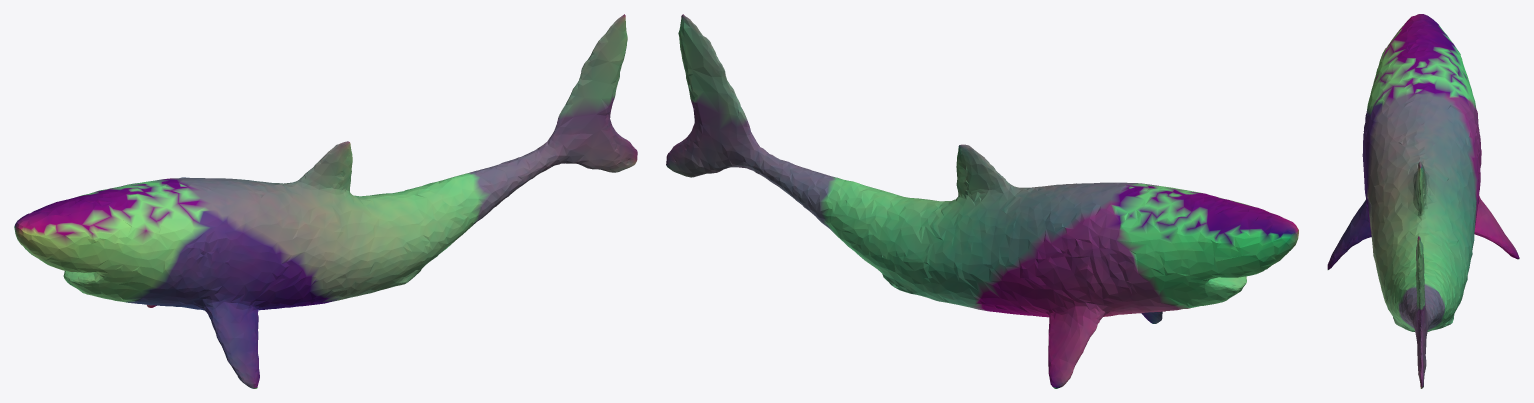
File: shark-20.off.obj
3 views of the same model, side by side, from view 1: azimuth 30°, elevation 25°; view 2: azimuth 150°, elevation 25°; view 3: azimuth 270°, elevation 25° (orthographic). The views are drawn at different scales.
Size of the model in its own units: 1.48 by 0.5417 by 0.4135.
